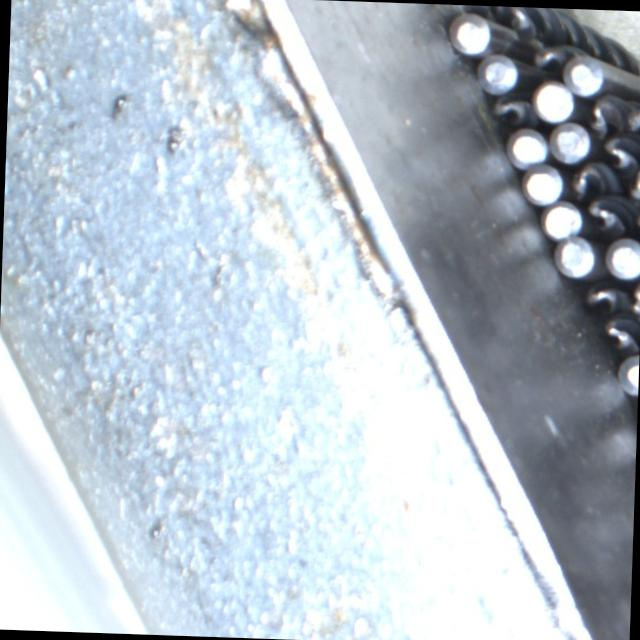tool: (532, 80, 574, 122), (564, 54, 606, 96), (601, 235, 640, 280), (550, 121, 592, 162), (540, 199, 583, 239), (522, 164, 564, 204), (555, 236, 597, 276), (477, 50, 518, 90), (508, 126, 548, 166), (452, 15, 492, 54), (616, 352, 640, 396)
tool_b: (562, 157, 618, 195), (527, 37, 579, 76), (486, 90, 537, 126), (594, 133, 640, 171), (583, 94, 625, 134), (578, 280, 622, 318), (597, 316, 640, 353), (584, 198, 624, 235), (619, 163, 640, 203), (624, 94, 640, 135), (625, 282, 640, 321)
